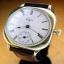watch: (3, 3, 56, 53)
